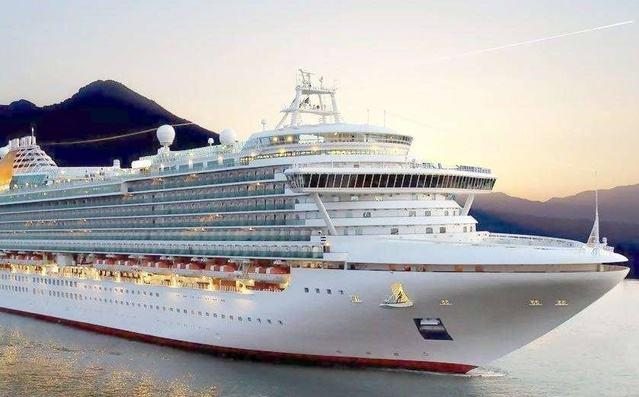youlun: (1, 67, 628, 373)
